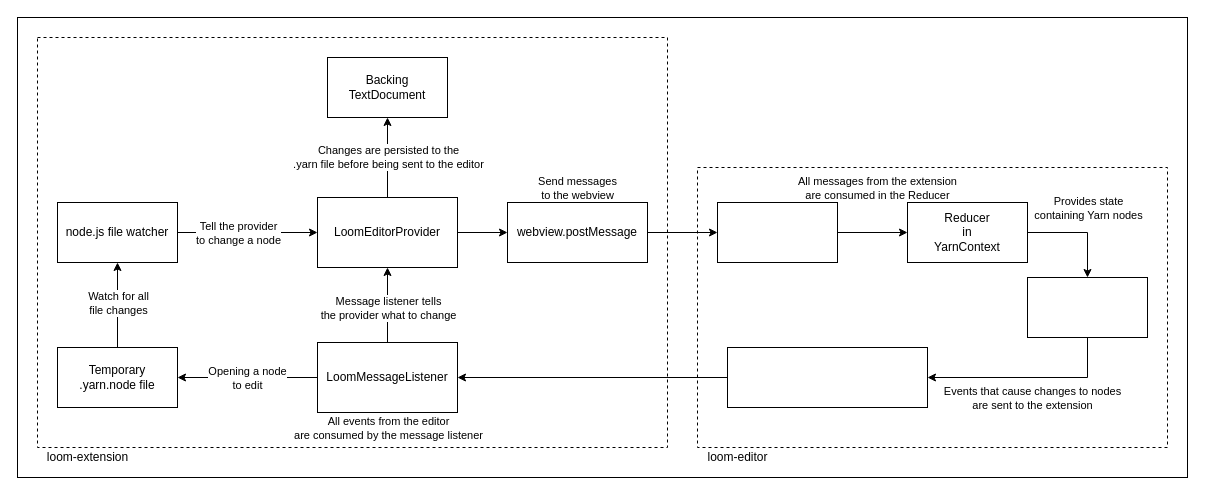
This 1205x495 diagram has some shape labels left out. Each missing label, with the centre of its shape:
"message" event on window: pixel 777 232
React Components: pixel 1087 307
window.vsCodeApi.postMessage: pixel 827 377
